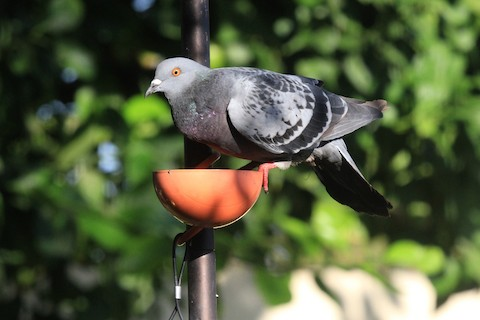pigeon: (144, 50, 407, 216)
